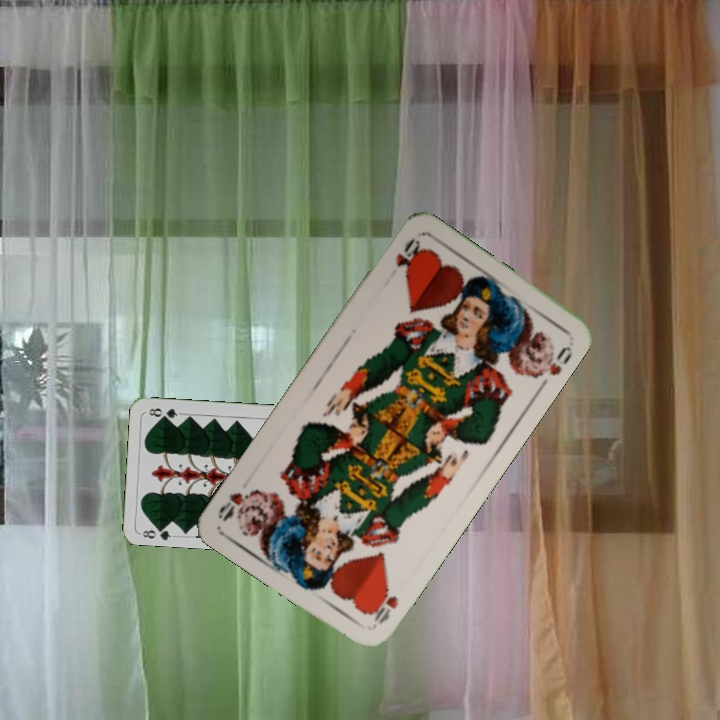G8: (137, 522, 177, 542)
HO: (365, 580, 401, 628), (391, 233, 423, 270)
